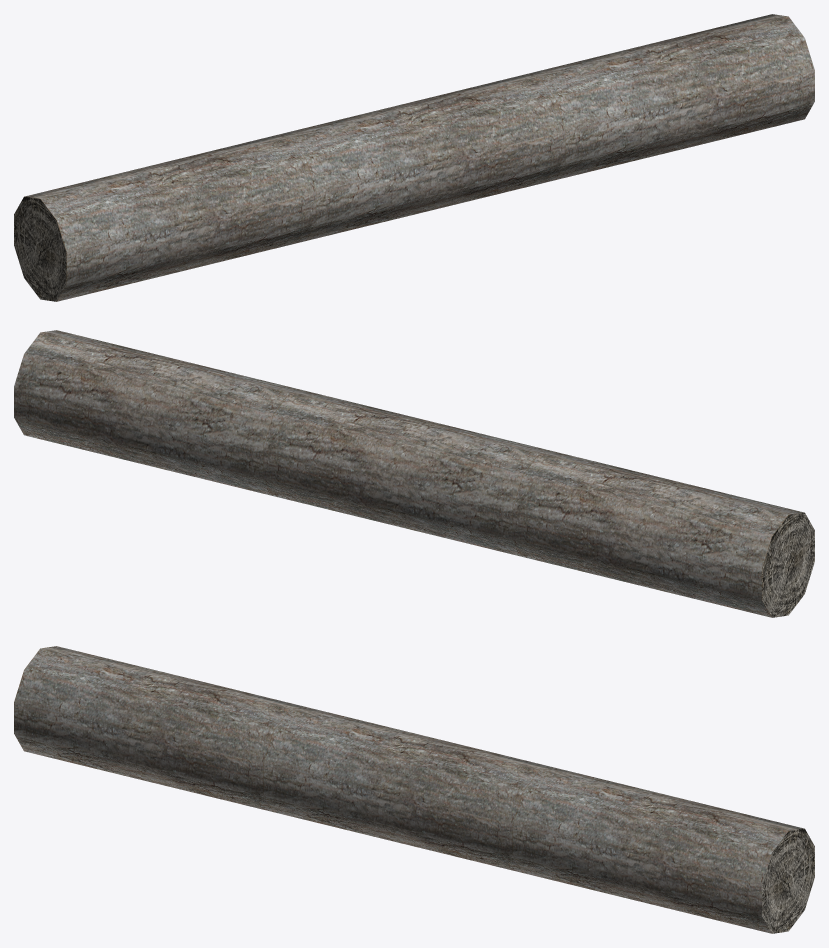
File: Sharp_log03.gltf
3 views of the same model, one above another, from view 1: azimuth 30°, elevation 25°; view 2: azimuth 150°, elevation 25°; view 3: azimuth 330°, elevation 25° (orthographic).
Parts seen in each view (by area): view 1: Log; view 2: Log; view 3: Log.
Part boxes in pixels (box(x1,y1,x2,y2)): Log: box(14, 14, 814, 301); Log: box(14, 330, 814, 617); Log: box(14, 646, 814, 933).
Size of the model in its own units: 5.29 by 0.6799 by 0.6466.
Materials: 1 (1 with a texture image).
